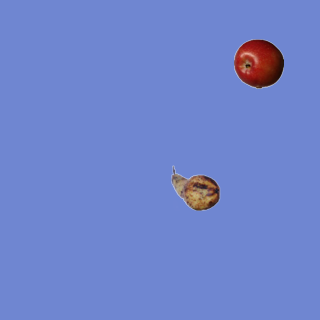Apple Braeburn: (233, 38, 283, 88)
Pear Abate: (170, 163, 220, 213)
